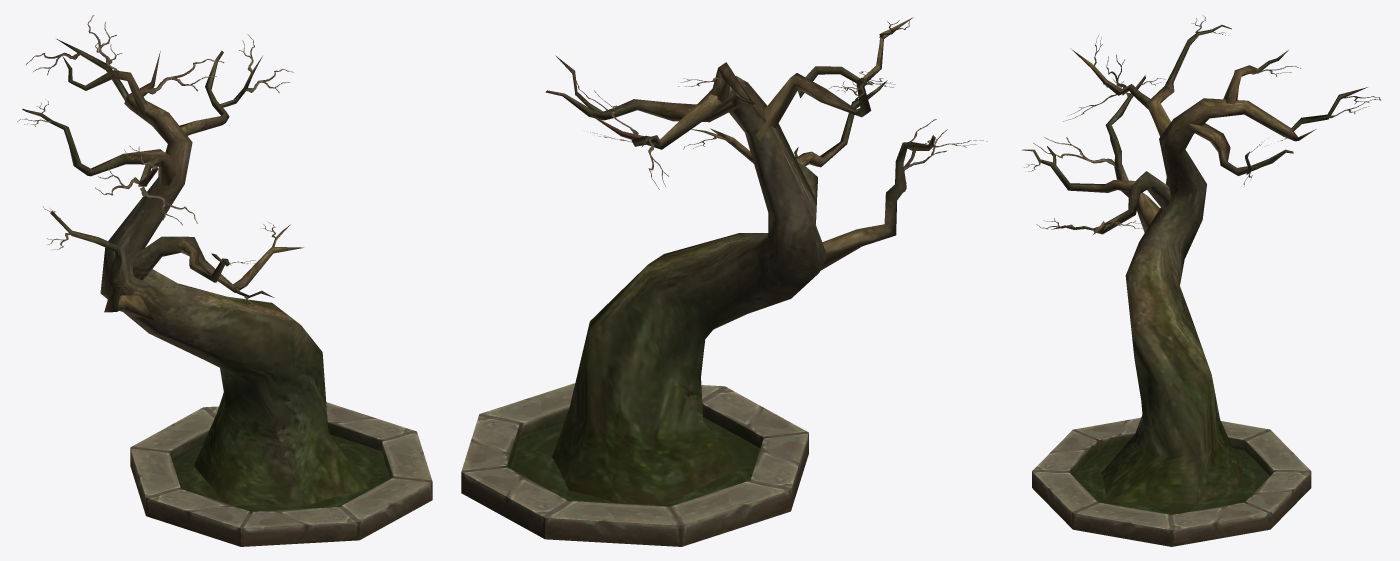
File: plant_city_kushu.FBX
The picture shows the model from 3 angles, left to right: view 1: azimuth 30°, elevation 25°; view 2: azimuth 150°, elevation 25°; view 3: azimuth 270°, elevation 25°; orthographic projection. The views are drawn at different scales.
Visible parts, largest first — view 1: plant_city_kushu; view 2: plant_city_kushu; view 3: plant_city_kushu.
Boxes of the visible parts, x1=… form: plant_city_kushu: x1=17, y1=15, x2=432, y2=546; plant_city_kushu: x1=461, y1=17, x2=987, y2=546; plant_city_kushu: x1=1022, y1=15, x2=1380, y2=546.
Bounding box in the file's own units: 7.18 × 7 × 6.25.
